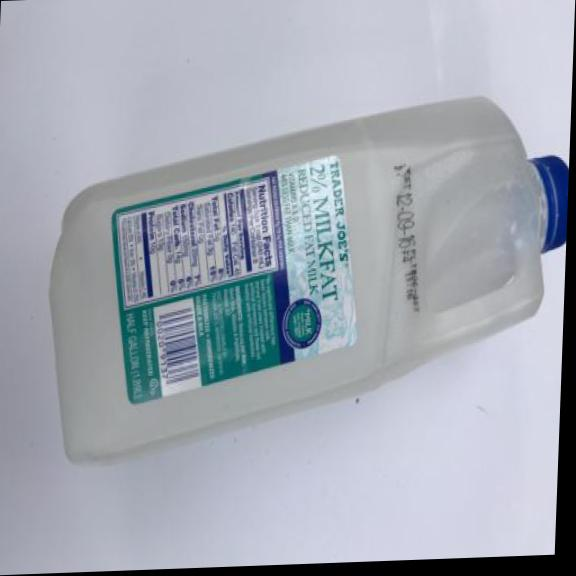Plastik: (39, 84, 563, 466)
